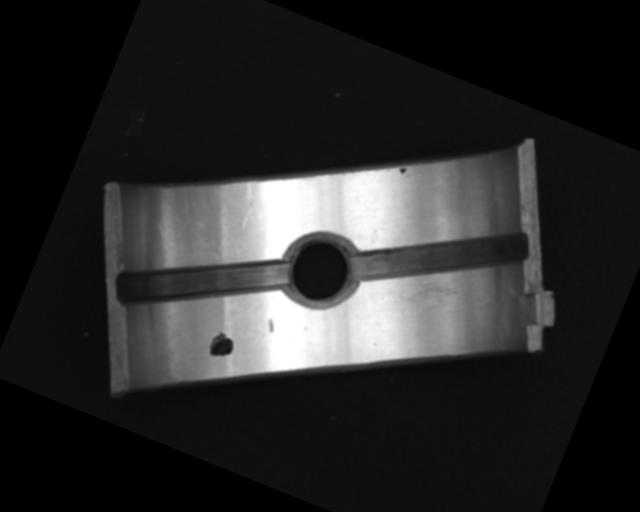blot: (205, 329, 238, 363), (396, 164, 409, 177)
bruise: (228, 179, 266, 232), (263, 317, 277, 335)
gap: (347, 179, 533, 332), (111, 209, 291, 356)
hole: (273, 222, 368, 320)
scratch: (384, 262, 479, 337)
